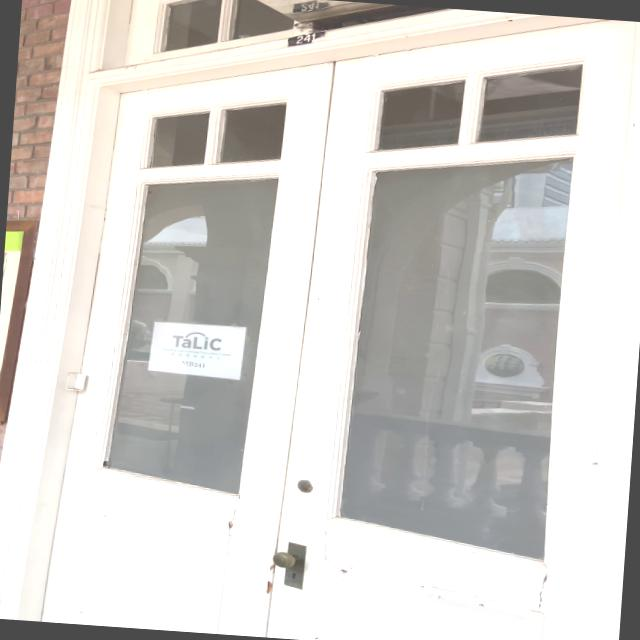room241: (284, 27, 328, 52)
